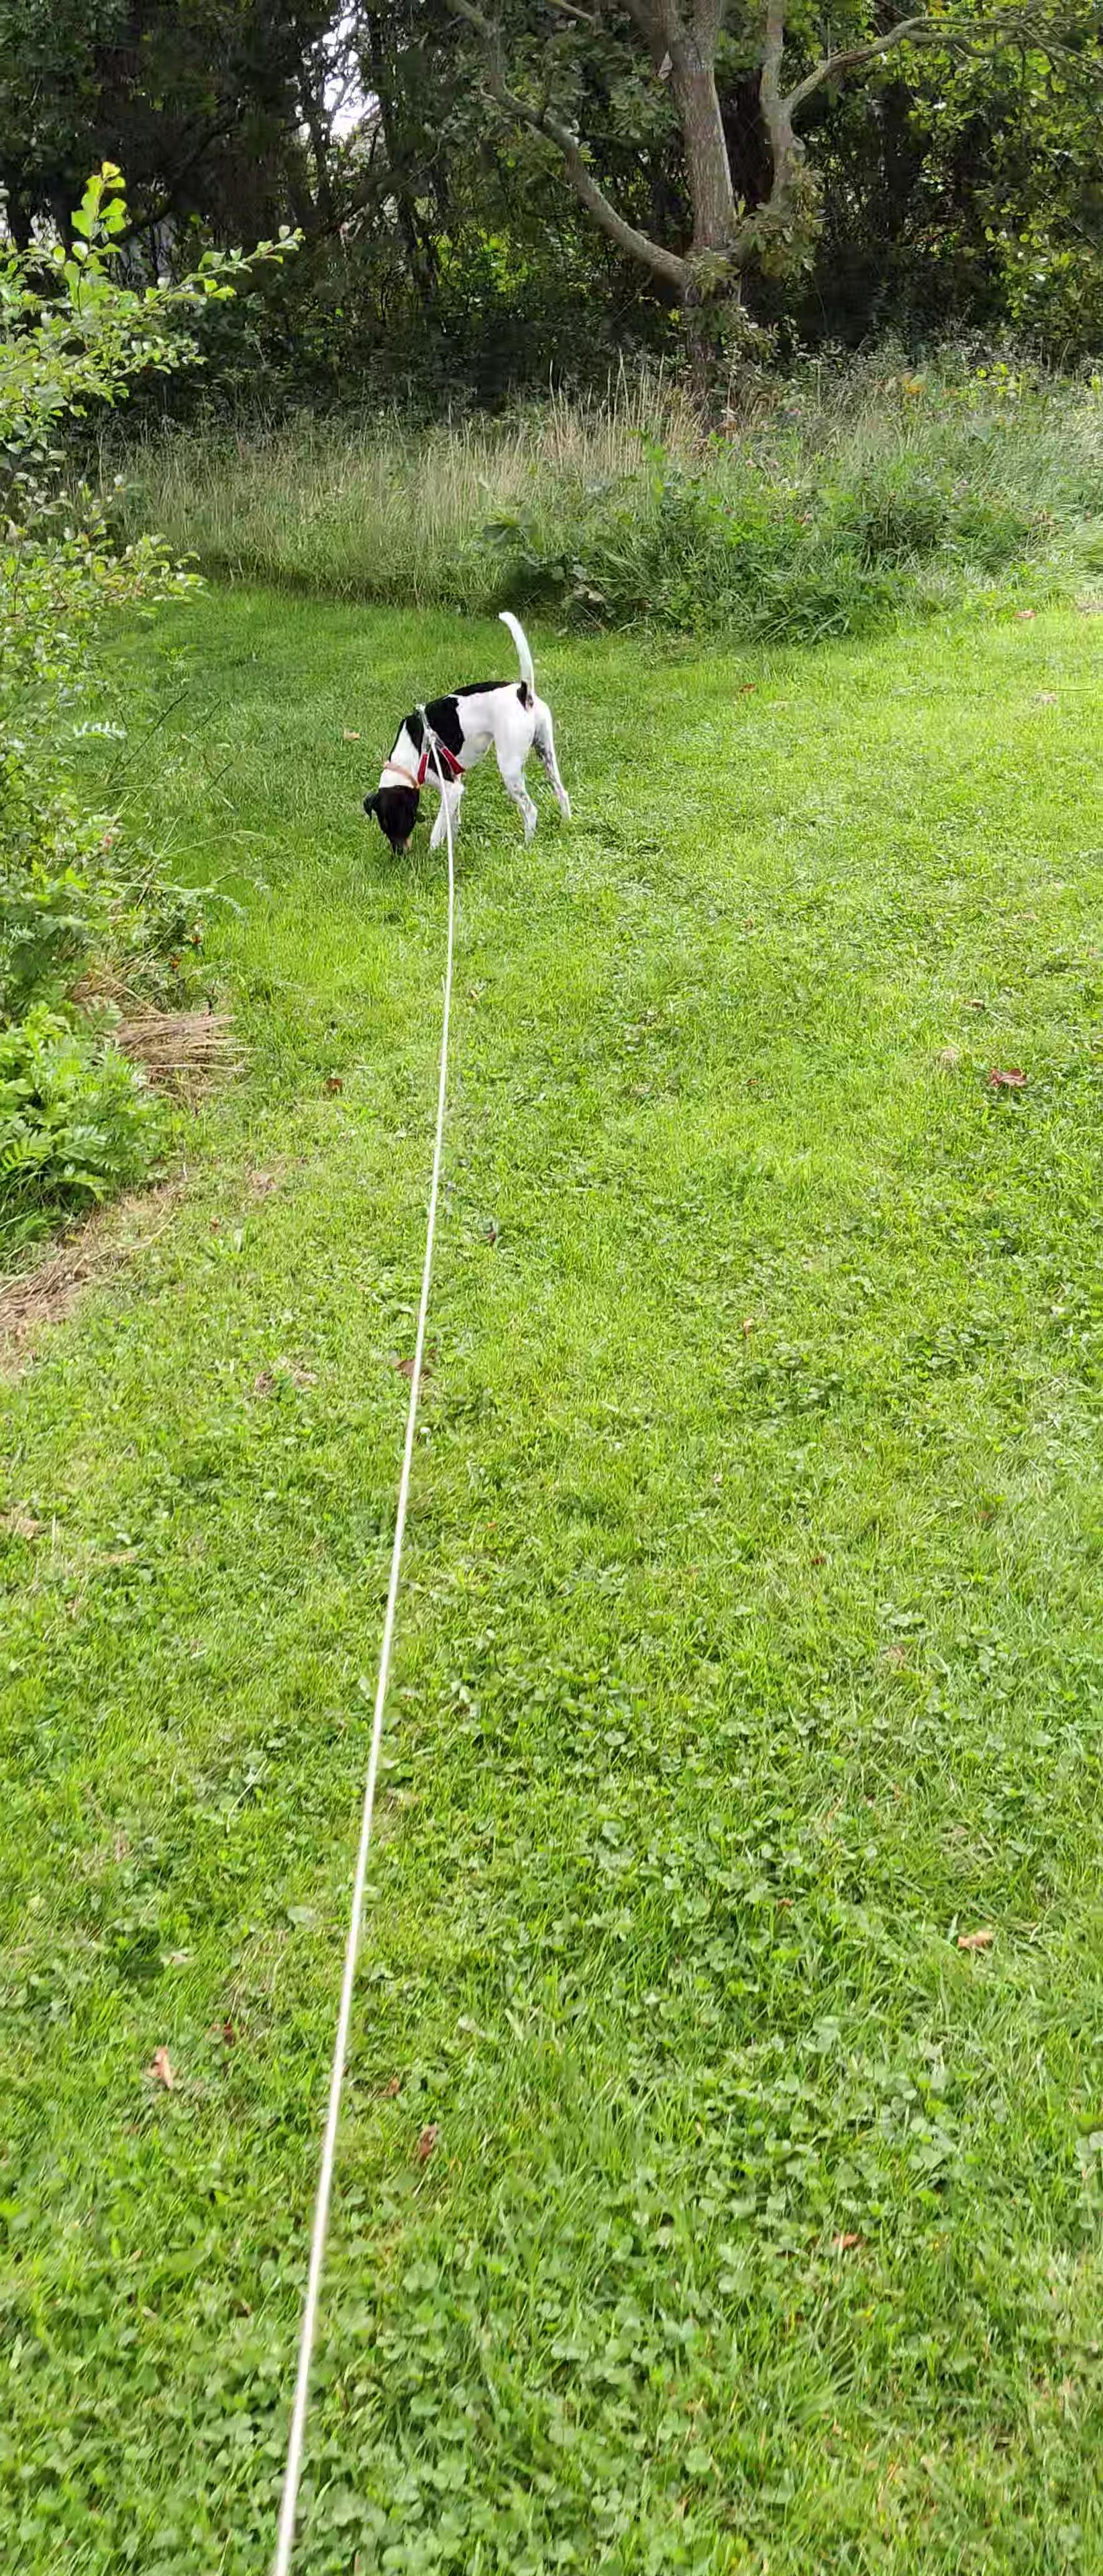Dog: (330, 593, 605, 871)
